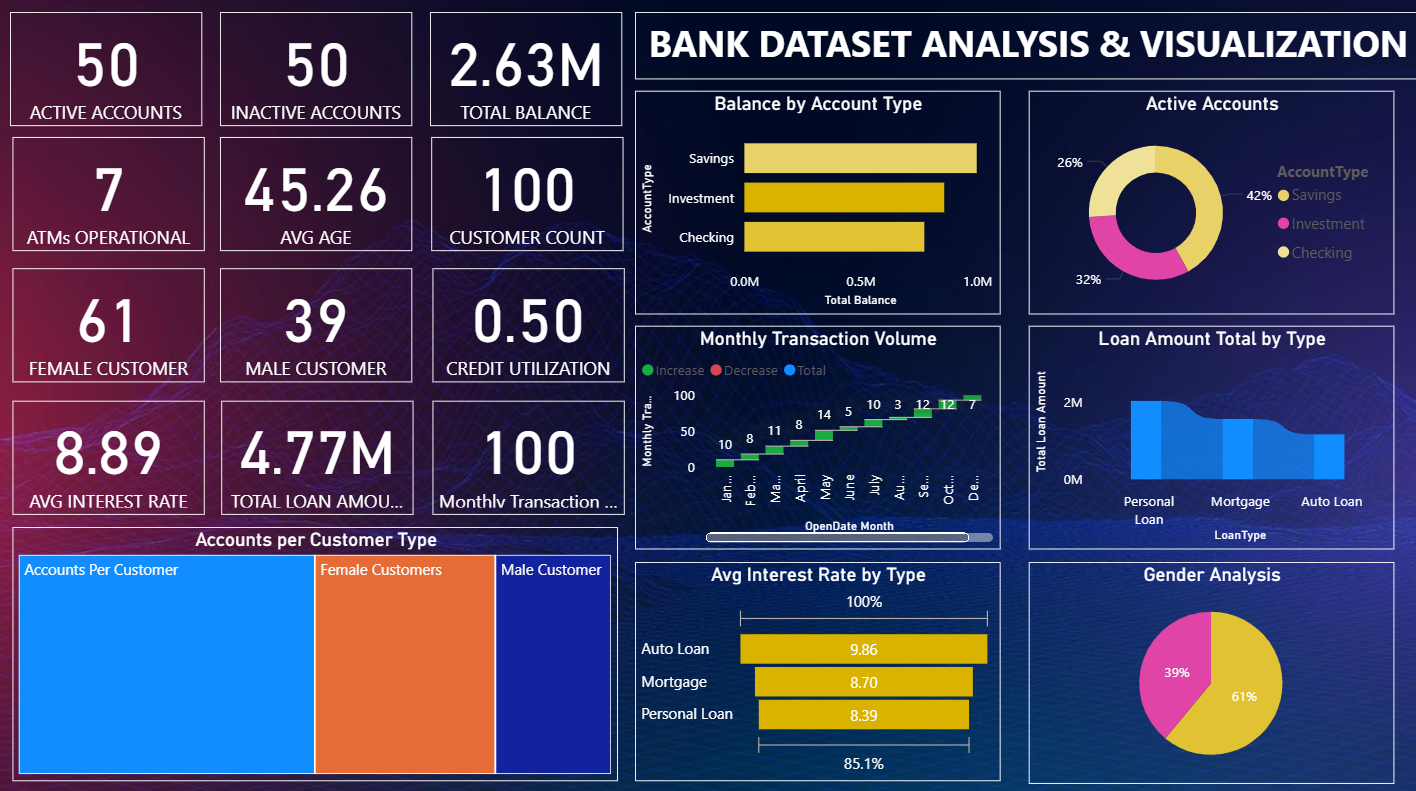

This screenshot's page, from the dashboard's own definition file:
{"tool":"powerbi","page":{"name":"Visualization 1","canvas":[1280,720],"ordinal":0},"visuals":[{"type":"textbox","box":[569.5,13.7,701.2,60.4],"z":0},{"type":"card","fields":{"Values":["Accounts.Active Accounts"]},"box":[13.7,13.7,171.5,101.5],"z":1000},{"type":"card","fields":{"Values":["Accounts.Inactive Accounts"]},"box":[200.3,13.7,171.5,101.5],"z":2000},{"type":"card","fields":{"Values":["Sum(Accounts.Balance)"]},"box":[387,13.7,171.5,101.5],"z":3000},{"type":"card","fields":{"Values":["ATMs.ATMs Operational"]},"box":[15.1,124.9,171.5,101.5],"z":4000},{"type":"card","fields":{"Values":["Customers.Average Age"]},"box":[200.3,124.9,171.5,101.5],"z":5000},{"type":"card","fields":{"Values":["Loans.Average Interst Rate"]},"box":[15.1,359.5,171.5,101.5],"z":6000},{"type":"card","fields":{"Values":["CreditCards.Credit Utilization"]},"box":[389.7,241.5,171.5,101.5],"z":7000},{"type":"card","fields":{"Values":["Sum(Loans.Amount)"]},"box":[201.7,359.5,171.5,101.5],"z":8000},{"type":"card","fields":{"Values":["Transactions.Monthly Transaction Volumn"]},"box":[389.7,359.5,171.5,101.5],"z":9000},{"type":"card","fields":{"Values":["Customers.Customer Count"]},"box":[388.3,124.9,171.5,101.5],"z":10000},{"type":"card","fields":{"Values":["Customers.Male Customer"]},"box":[200.3,241.5,171.5,101.5],"z":11000},{"type":"card","fields":{"Values":["Customers.Female Customers"]},"box":[15.1,241.5,171.5,101.5],"z":12000},{"type":"barChart","title":"Balance by Account Type","fields":{"Y":["Accounts.Total Balance"],"Category":["Accounts.AccountType"]},"box":[569.5,83.7,325.2,199],"z":13000},{"type":"donutChart","title":"Active Accounts ","fields":{"Category":["Accounts.AccountType"],"Y":["Accounts.Active Accounts"]},"box":[920.8,83.7,325.2,199],"z":13001},{"type":"ribbonChart","title":"Loan Amount Total by Type","fields":{"Category":["Loans.LoanType"],"Y":["Loans.Total Loan Amount"]},"box":[920.8,292.3,325.2,199],"z":13002},{"type":"funnel","title":"Avg Interest Rate by Type","fields":{"Category":["Loans.LoanType"],"Y":["Loans.Average Interst Rate"]},"box":[569.5,503.6,325.2,194.9],"z":13003},{"type":"waterfallChart","title":"Monthly Transaction Volume","fields":{"Category":["Accounts.OpenDate.Variation.Date Hierarchy.Month"],"Y":["Transactions.Monthly Transaction Volumn"]},"box":[569.5,292.3,325.2,199],"z":13004},{"type":"pieChart","title":"Gender Analysis","fields":{"Category":["Customers.Gender"],"Y":["Customers.Customer Count"]},"box":[920.8,503.6,325.2,197.6],"z":13005},{"type":"treemap","title":"Accounts per Customer Type","fields":{"Values":["Accounts.Accounts Per Customer","Customers.Male Customer","Customers.Female Customers"]},"box":[15.1,472,539.3,226.4],"z":13006}]}

Visuals, with their boxes in screenshot pixels (x1, y1, x2, y2), scaled from the page's 1280x720 canvas onto the 1416x791 screenshot:
textbox: <region>630, 15, 1406, 81</region>
card - Accounts.Active Accounts: <region>15, 15, 205, 127</region>
card - Accounts.Inactive Accounts: <region>222, 15, 411, 127</region>
card - Sum(Accounts.Balance): <region>428, 15, 618, 127</region>
card - ATMs.ATMs Operational: <region>17, 137, 206, 249</region>
card - Customers.Average Age: <region>222, 137, 411, 249</region>
card - Loans.Average Interst Rate: <region>17, 395, 206, 506</region>
card - CreditCards.Credit Utilization: <region>431, 265, 621, 377</region>
card - Sum(Loans.Amount): <region>223, 395, 413, 506</region>
card - Transactions.Monthly Transaction Volumn: <region>431, 395, 621, 506</region>
card - Customers.Customer Count: <region>430, 137, 619, 249</region>
card - Customers.Male Customer: <region>222, 265, 411, 377</region>
card - Customers.Female Customers: <region>17, 265, 206, 377</region>
"Balance by Account Type" barChart: <region>630, 92, 990, 311</region>
"Active Accounts " donutChart: <region>1019, 92, 1378, 311</region>
"Loan Amount Total by Type" ribbonChart: <region>1019, 321, 1378, 540</region>
"Avg Interest Rate by Type" funnel: <region>630, 553, 990, 767</region>
"Monthly Transaction Volume" waterfallChart: <region>630, 321, 990, 540</region>
"Gender Analysis" pieChart: <region>1019, 553, 1378, 770</region>
"Accounts per Customer Type" treemap: <region>17, 519, 613, 767</region>
